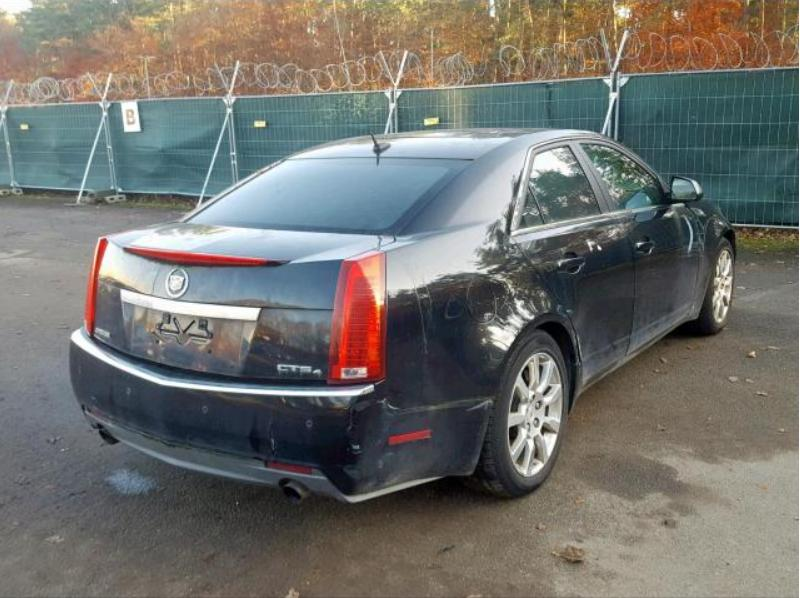Back-bumper: (68, 326, 494, 502)
Back-door: (512, 141, 635, 387)
Back-wheel: (472, 329, 571, 499)
Back-window: (533, 147, 604, 224), (522, 186, 545, 228)
Back-windshield: (186, 157, 470, 235)
Fender: (686, 203, 737, 320)
Front-door: (571, 138, 699, 356)
Front-wheel: (686, 235, 738, 337)
Front-window: (585, 145, 670, 216)
Mirror: (669, 177, 703, 205)
Quarter-panel: (378, 226, 582, 408)
Rocker-panel: (574, 310, 700, 400)
Roof: (298, 126, 599, 160)
Tail-light: (318, 251, 389, 389), (85, 238, 107, 323)
Trunk: (94, 218, 393, 390)
